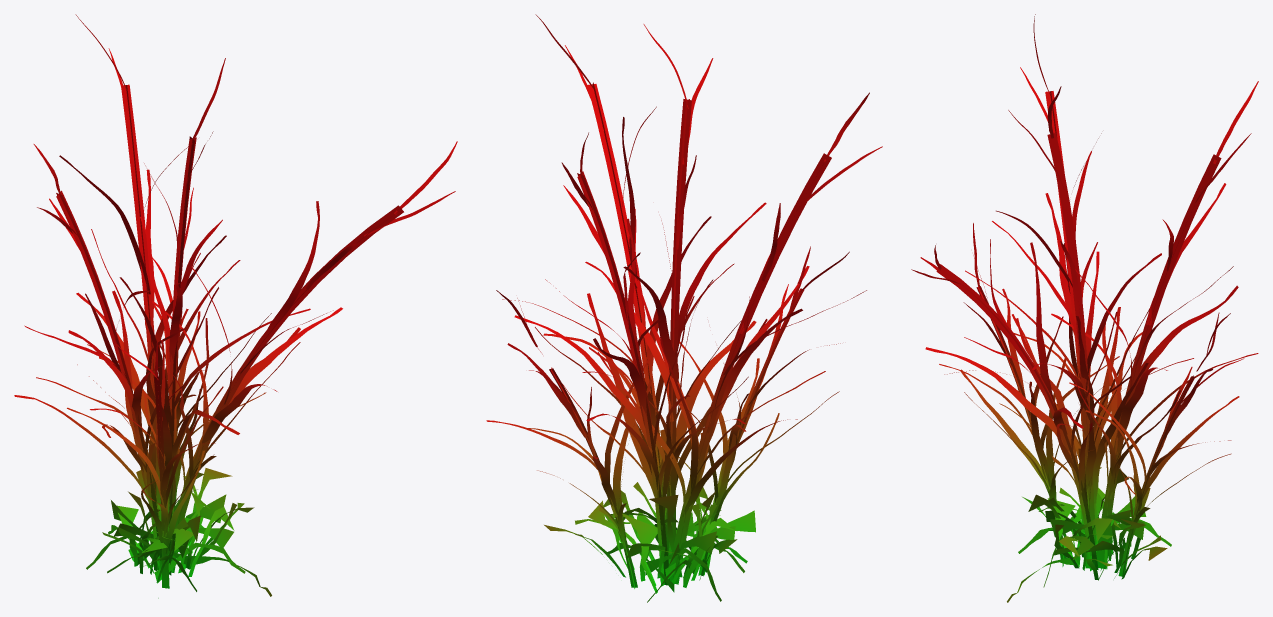
The model's file is slBjG_Var4_LOD0.fbx.
The picture shows the model from 3 angles, left to right: view 1: azimuth 30°, elevation 25°; view 2: azimuth 150°, elevation 25°; view 3: azimuth 270°, elevation 25°; orthographic projection. The views are drawn at different scales.
Parts seen in each view (by area): view 1: _b7b6_Var4_LOD0; view 2: _b7b6_Var4_LOD0; view 3: _b7b6_Var4_LOD0.
Part boxes in pixels (x1,y1,x2,y2): _b7b6_Var4_LOD0: (14, 14, 457, 598); _b7b6_Var4_LOD0: (486, 14, 882, 602); _b7b6_Var4_LOD0: (911, 14, 1258, 602).
Size of the model in its own units: 25.32 by 33.43 by 20.74.
